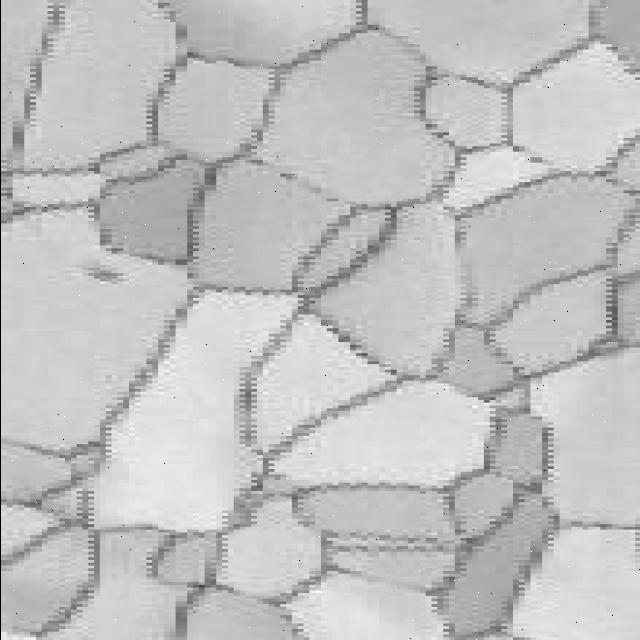good_void: (85, 264, 127, 285)
